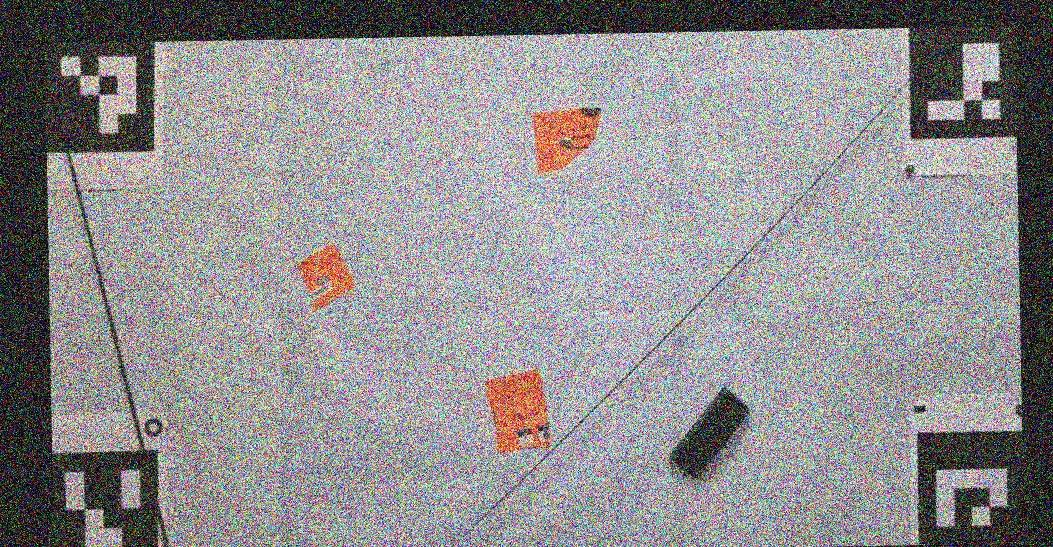obstacle: (671, 387, 749, 479), (484, 370, 551, 451), (531, 107, 602, 176), (298, 244, 355, 311)
